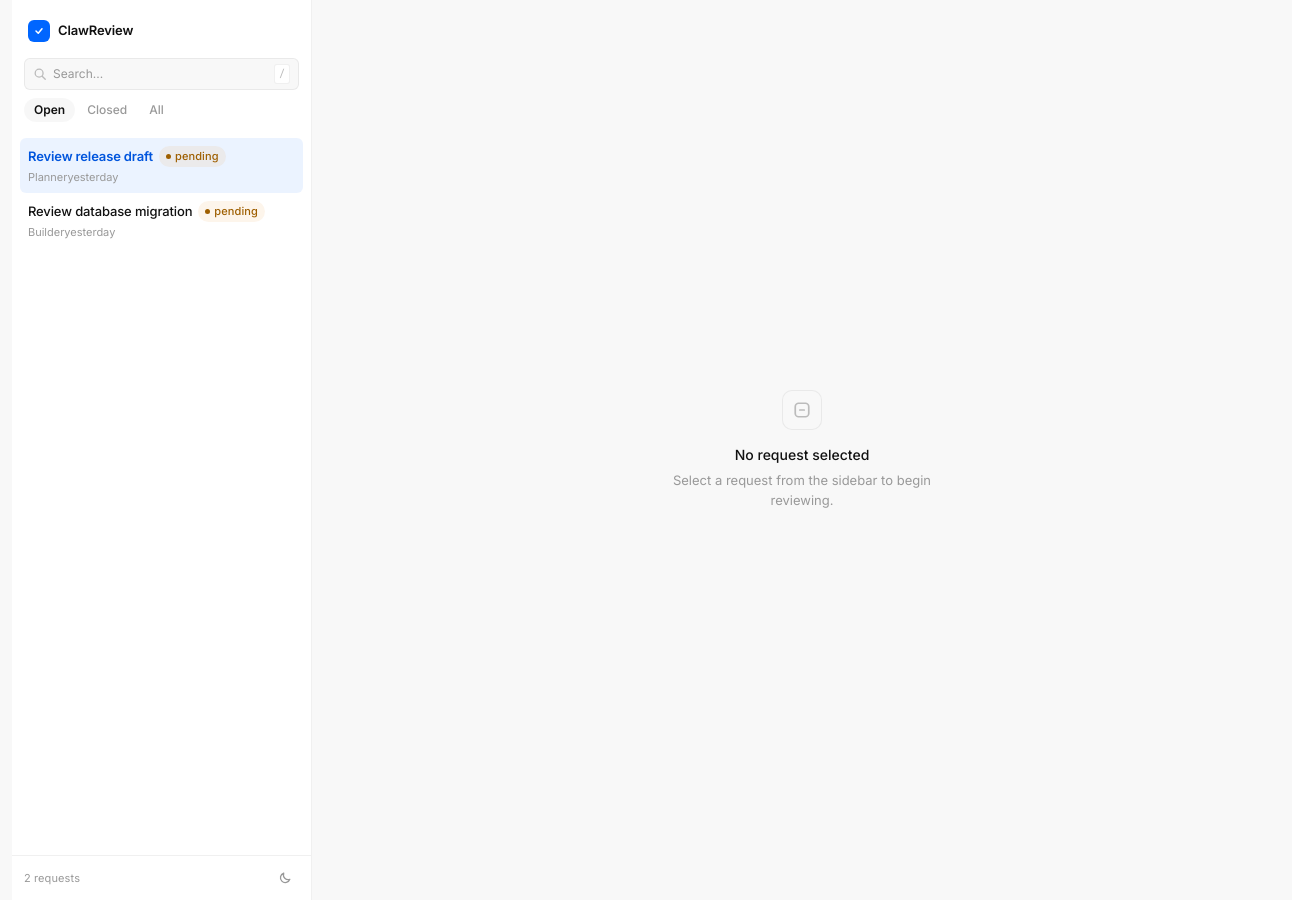
web app › updates the URL when selecting a different request
Expected: the text "Review release draft" is shown, left=28, top=146, right=153, bottom=166
Click the button "Review database migration" at (162, 220), box left=20, top=193, right=303, bottom=248
(page scrolled)
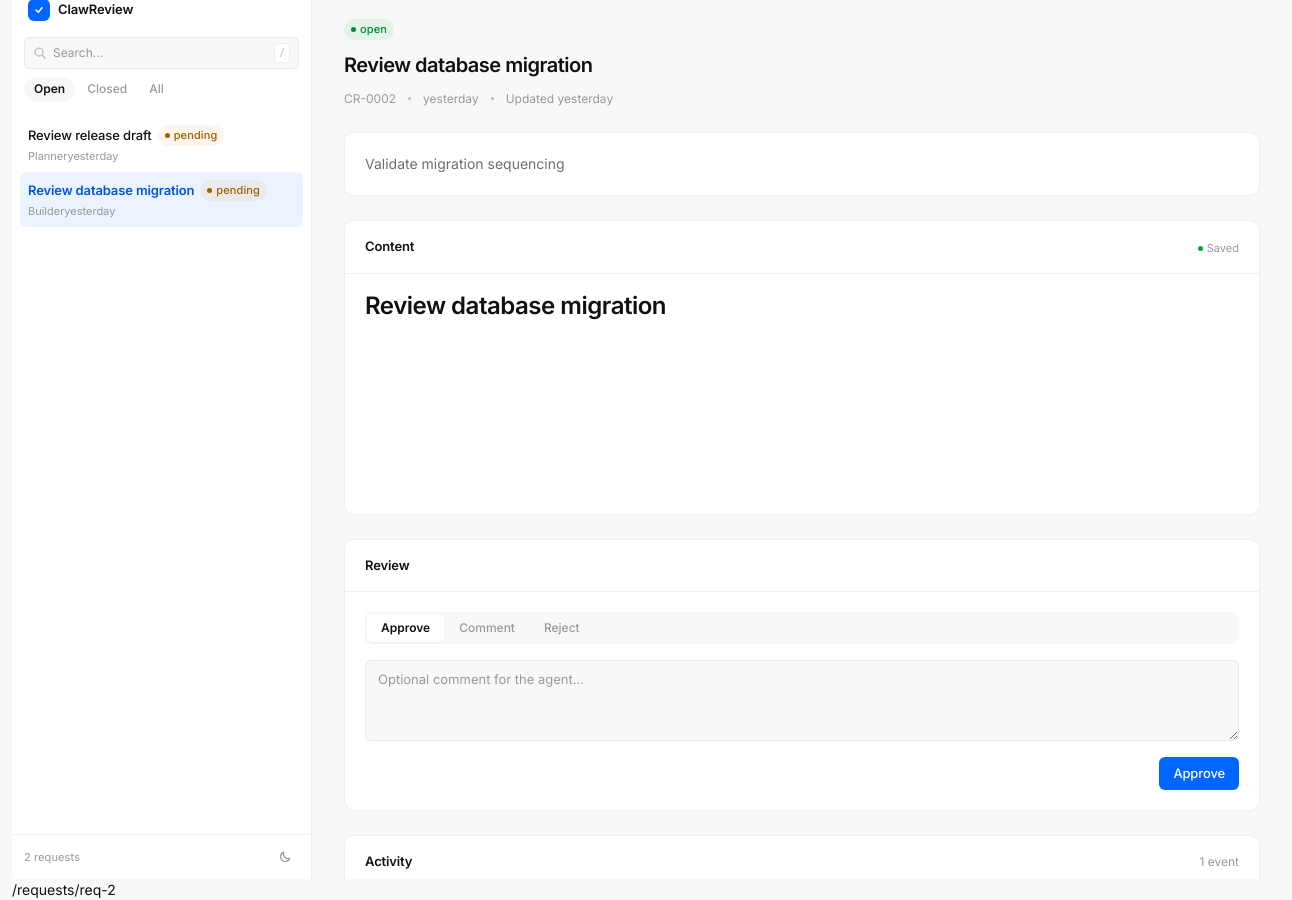
Now the text "Validate migration sequencing" is shown, box left=365, top=154, right=565, bottom=172
Now the text with test id "location-display" reads "/requests/req-2", box left=12, top=881, right=116, bottom=898
